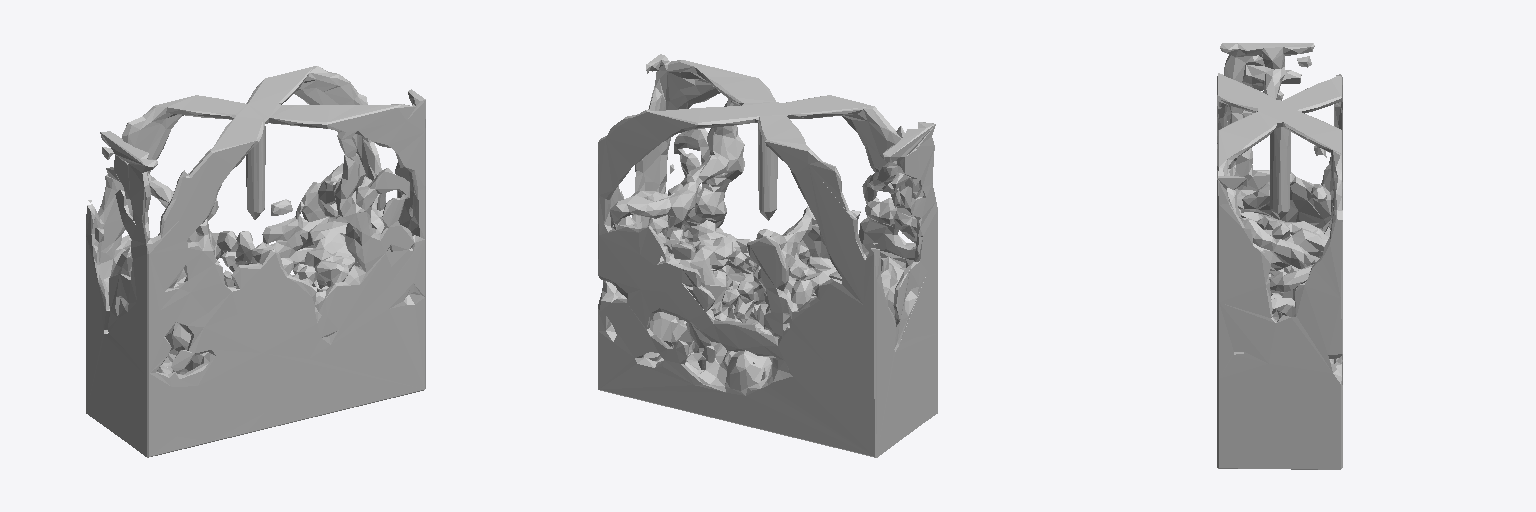
3 views of the same model, side by side, from view 1: azimuth 30°, elevation 25°; view 2: azimuth 150°, elevation 25°; view 3: azimuth 270°, elevation 25° (orthographic).
Parts seen in each view (by area): view 1: Liquid_Domain; view 2: Liquid_Domain; view 3: Liquid_Domain.
Boxes of the visible parts, <box> form: Liquid_Domain: <box>86,66,425,457</box>; Liquid_Domain: <box>598,54,937,457</box>; Liquid_Domain: <box>1217,43,1342,469</box>.
Size of the model in its own units: 884 by 885 by 345.